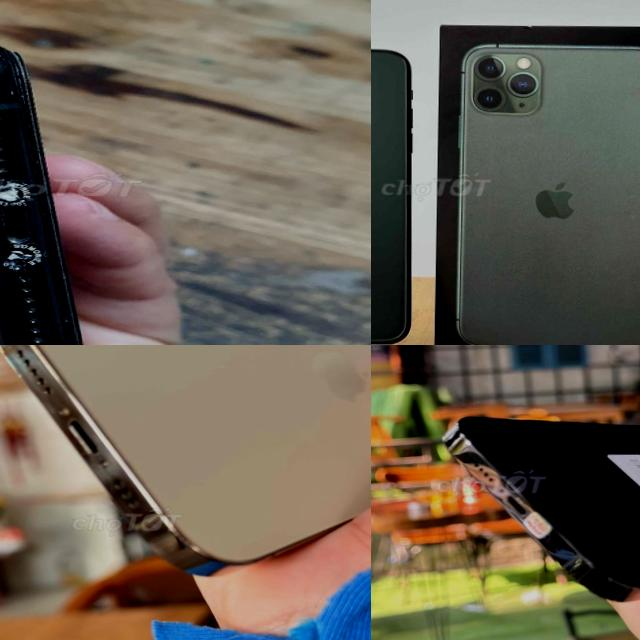scratch: (0, 57, 28, 144), (48, 311, 93, 334)
